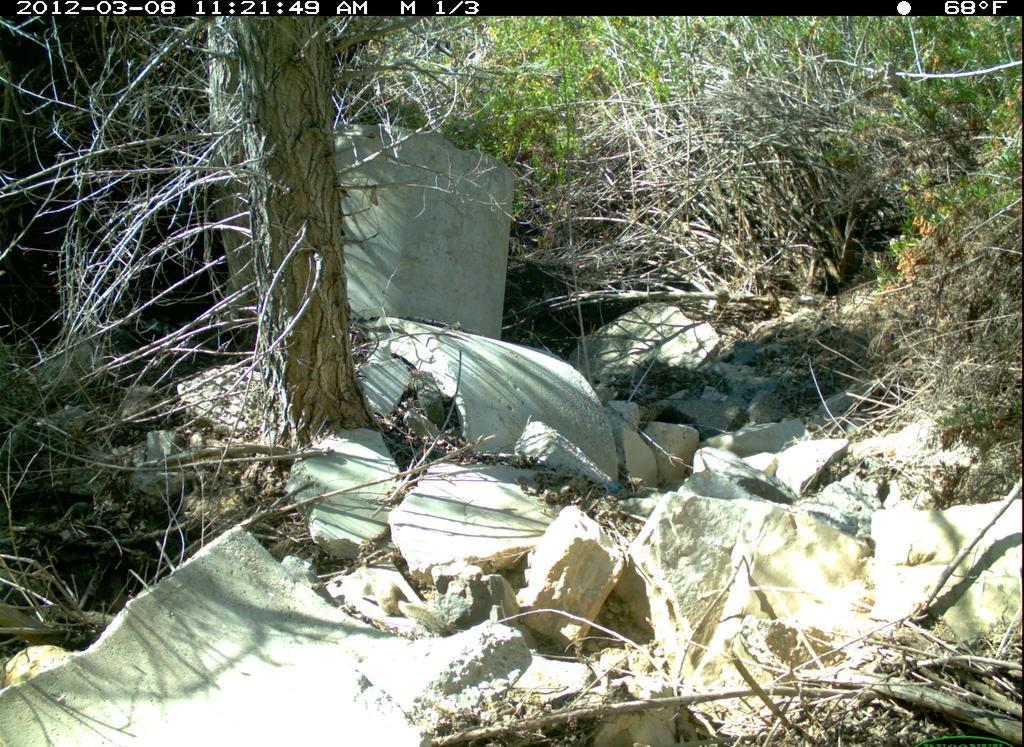squirrel: (350, 560, 460, 643)
